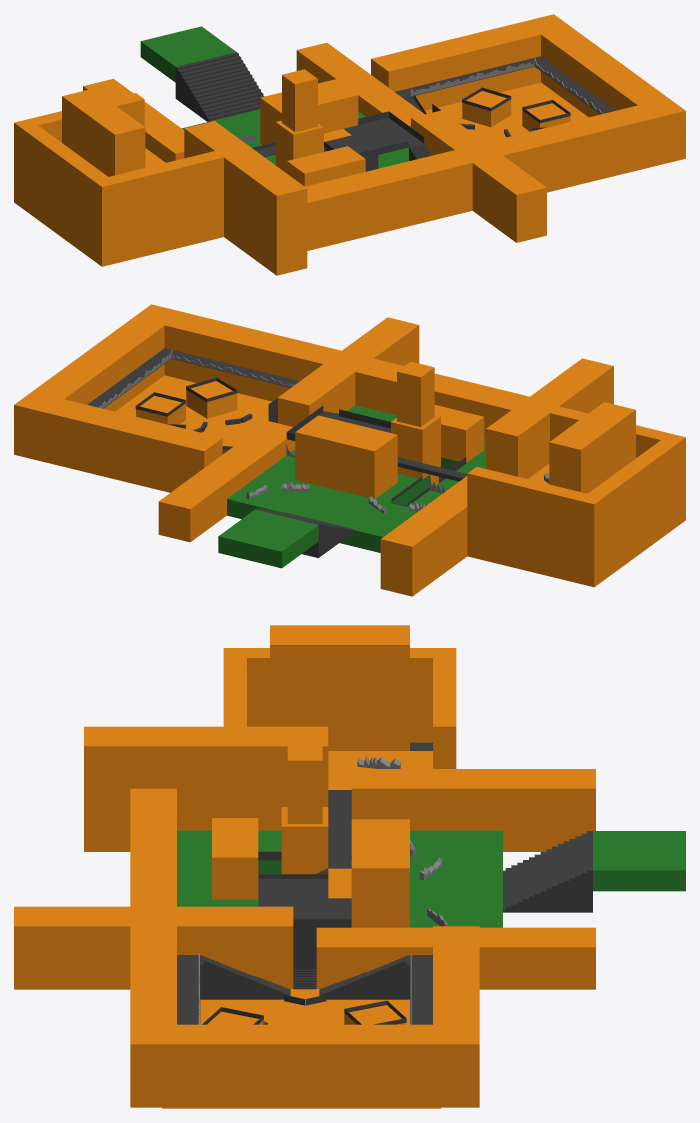
Rendered from Level 1 Broken.fbx.
3 renders of one model, top to bottom at view 1: azimuth 30°, elevation 25°; view 2: azimuth 150°, elevation 25°; view 3: azimuth 270°, elevation 25°, orthographic. The views are drawn at different scales.
Visible parts, largest first — view 1: Walls, Metal_Areas, Grass_Areas, Water_Area, Wood_Areas, Differences; view 2: Walls, Grass_Areas, Metal_Areas, Water_Area, Wood_Areas, Differences; view 3: Walls, Metal_Areas, Grass_Areas, Water_Area, Dirt_Area, Wood_Areas, Differences.
Boxes of the visible parts, x1,y1,x2,y2 form: Walls: [14, 14, 685, 275]; Metal_Areas: [175, 52, 615, 171]; Grass_Areas: [140, 26, 408, 168]; Water_Area: [425, 82, 588, 142]; Wood_Areas: [462, 91, 570, 131]; Differences: [238, 58, 603, 140]; Walls: [14, 304, 685, 596]; Grass_Areas: [218, 405, 485, 568]; Metal_Areas: [87, 348, 467, 557]; Water_Area: [115, 375, 271, 446]; Wood_Areas: [136, 381, 237, 428]; Differences: [99, 349, 549, 513]; Walls: [14, 625, 595, 1107]; Metal_Areas: [177, 742, 592, 1024]; Grass_Areas: [177, 830, 685, 927]; Water_Area: [162, 990, 441, 1108]; Dirt_Area: [328, 751, 432, 789]; Wood_Areas: [207, 1005, 406, 1024]; Differences: [198, 755, 448, 1024].
Bounding box in the file's own units: 18016 × 3548 × 14430.
